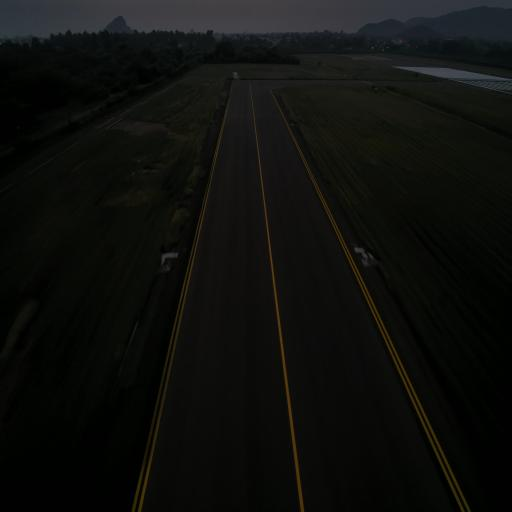on: (166, 257, 171, 272)
